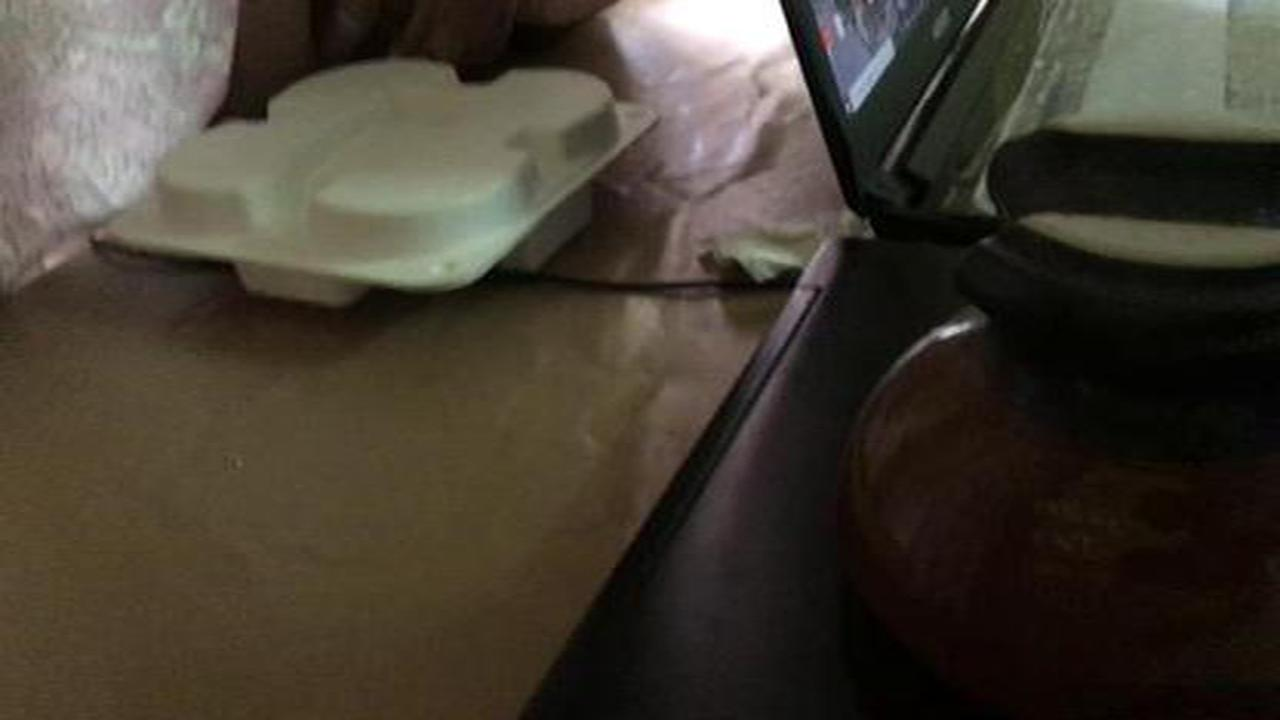insulator_pin: (816, 113, 1277, 669)
